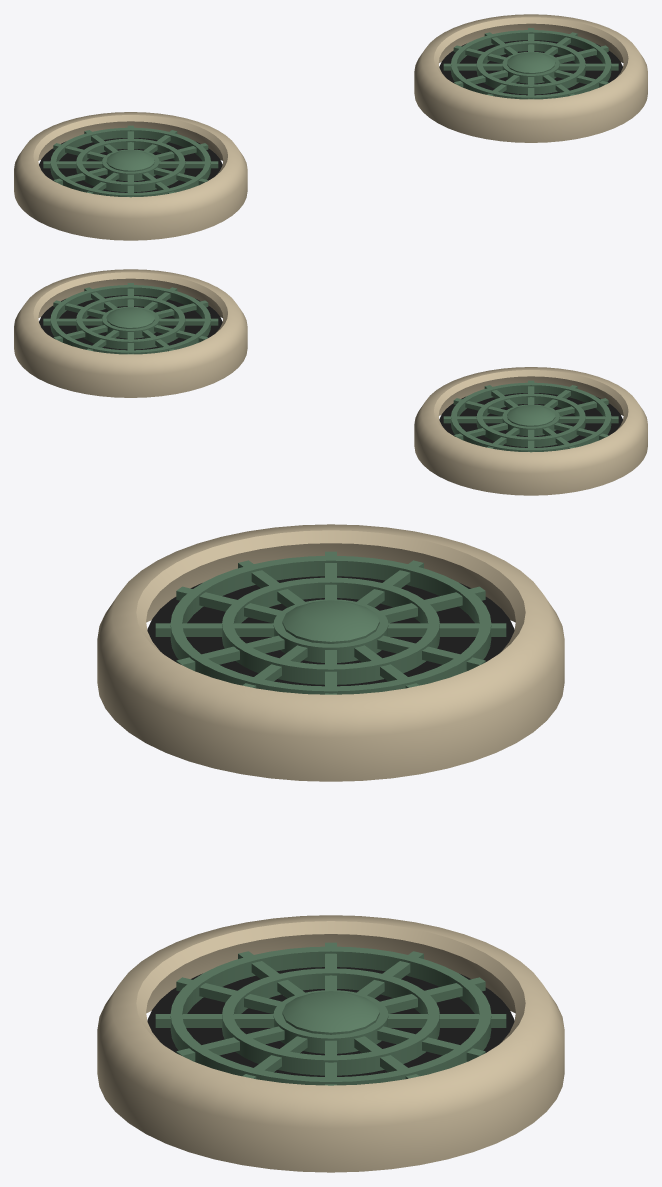
The model's file is t60_fan.obj.
The picture shows the model from 3 angles, top to bottom: view 1: azimuth 30°, elevation 25°; view 2: azimuth 150°, elevation 25°; view 3: azimuth 270°, elevation 25°; orthographic projection. The views are drawn at different scales.
Parts seen in each view (by area): view 1: t60_fan; view 2: t60_fan; view 3: t60_fan.
Part boxes in pixels (left/top/right/bottom): t60_fan: left=14, top=14, right=647, bottom=240; t60_fan: left=14, top=269, right=647, bottom=495; t60_fan: left=97, top=524, right=564, bottom=1172.
Size of the model in its own units: 2.86 by 0.16 by 0.96.
